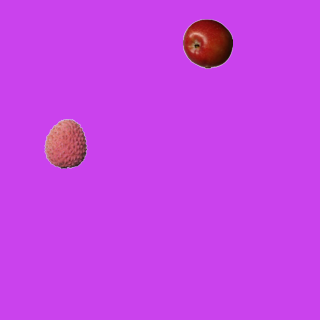Apple Braeburn: (182, 18, 232, 68)
Lychee: (40, 118, 90, 168)
